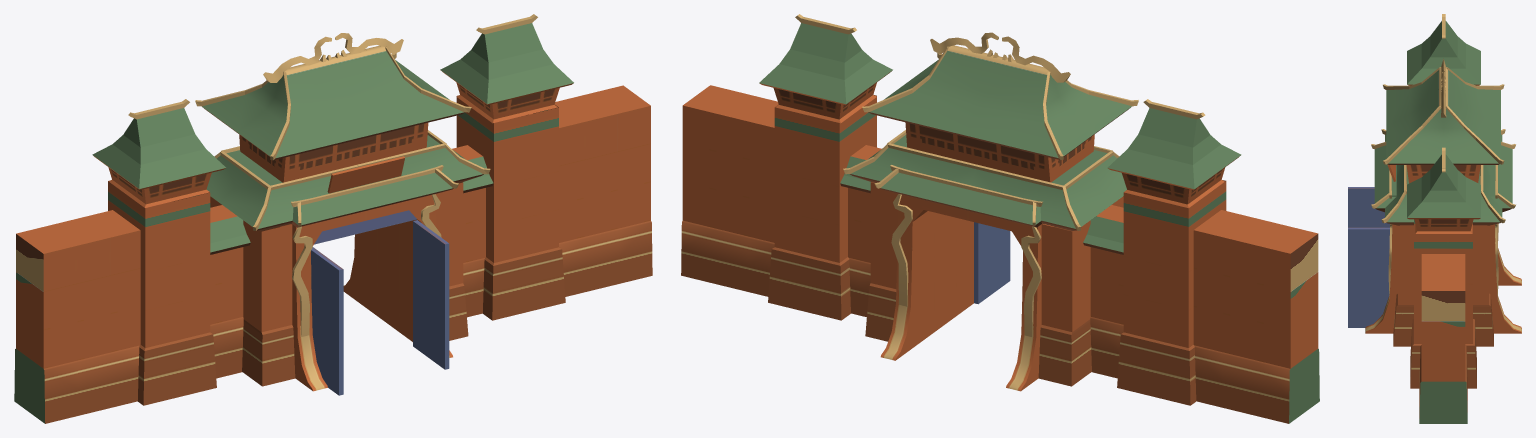
The model's file is n_snow_m_empiregate_02.fbx.
3 renders of one model, left to right at view 1: azimuth 30°, elevation 25°; view 2: azimuth 150°, elevation 25°; view 3: azimuth 270°, elevation 25°, orthographic. The views are drawn at different scales.
Visible parts, largest first — view 1: Object01; view 2: Object01; view 3: Object01.
Part boxes in pixels (bbox=[...]): Object01: bbox=[14, 14, 652, 423]; Object01: bbox=[681, 14, 1319, 423]; Object01: bbox=[1348, 14, 1521, 423].
Size of the model in its own units: 44.23 by 21.15 by 13.93.
